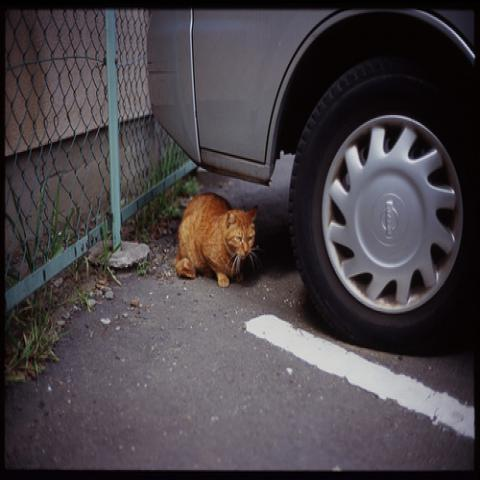car: (145, 4, 479, 355)
